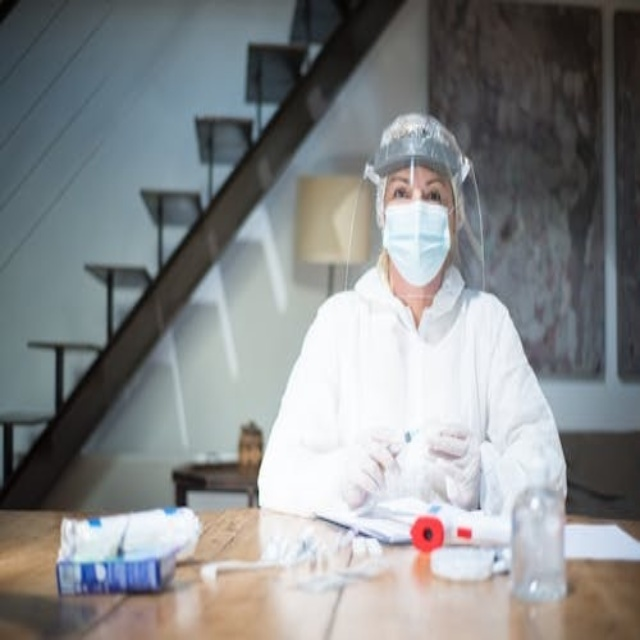Guantes: (340, 431, 402, 510), (428, 424, 482, 510)
Mascara: (382, 198, 452, 286)
Sin_gafas: (387, 174, 453, 207)
